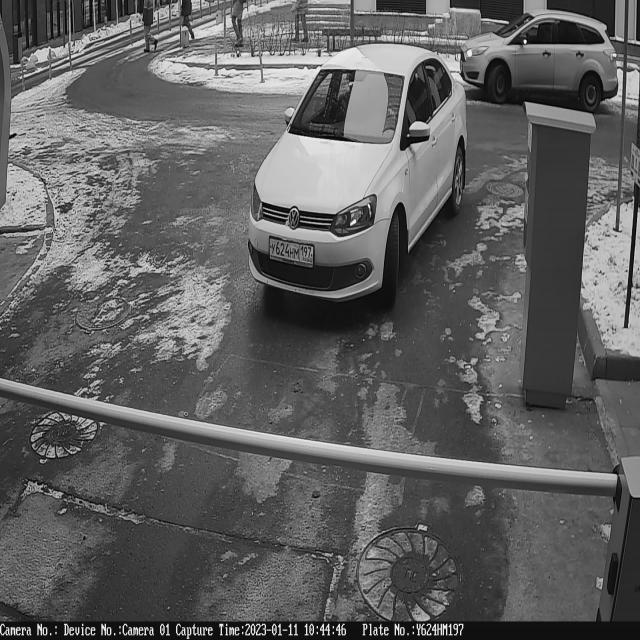car-plate-numbers: (265, 229, 319, 272)
